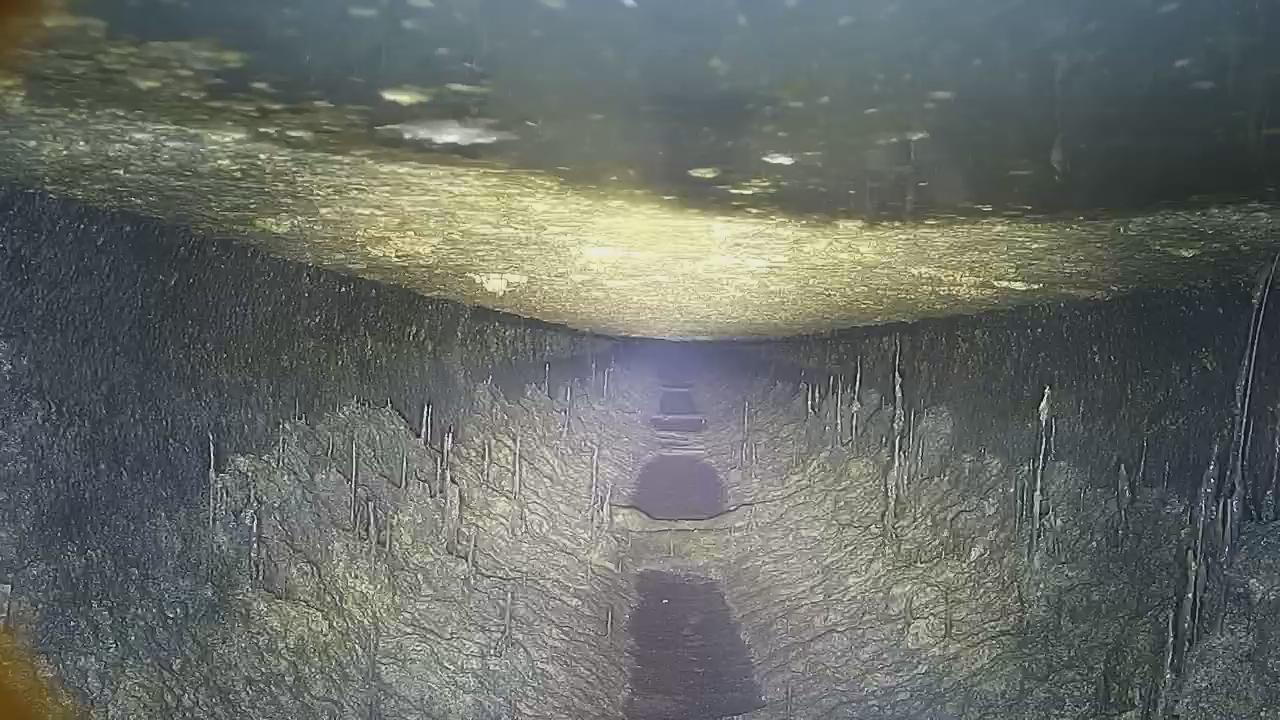FZ: (1, 12, 1280, 340), (379, 84, 486, 111)
JG: (1, 194, 1280, 720)
